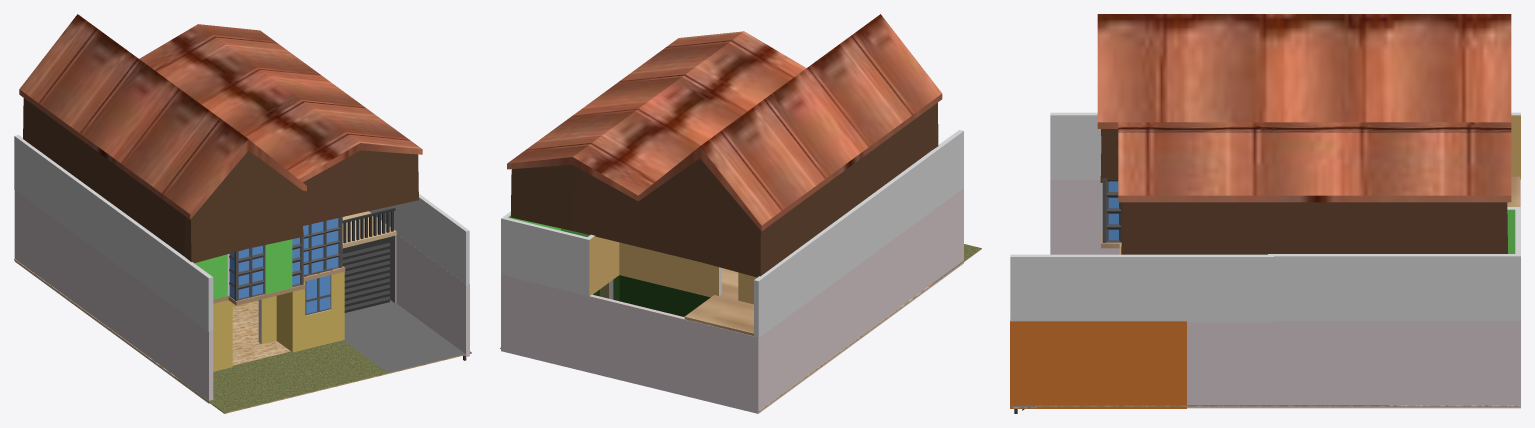
File: rumah kiri .fbx
3 views of the same model, side by side, from view 1: azimuth 30°, elevation 25°; view 2: azimuth 150°, elevation 25°; view 3: azimuth 270°, elevation 25° (orthographic). The views are drawn at different scales.
Visible parts, largest first — view 1: Cube.085, Cube.084, Cube.083, Plane.006, Plane.010, Cube.081, Cube.082, Plane.007, Cube.087, Cube.086; view 2: Cube.085, Cube.084, Cube.083, Plane.007, Plane.006; view 3: Cube.085, Cube.084, Cube.083, Cube.081, Plane.006, Plane.007.
Boxes of the visible parts, bbox=[...] form: Cube.085: bbox=[19, 14, 422, 263]; Cube.084: bbox=[14, 190, 469, 403]; Cube.083: bbox=[14, 135, 469, 331]; Plane.006: bbox=[14, 259, 471, 413]; Plane.010: bbox=[342, 242, 390, 312]; Cube.081: bbox=[292, 217, 342, 287]; Cube.082: bbox=[229, 245, 264, 300]; Plane.007: bbox=[213, 211, 396, 305]; Cube.087: bbox=[342, 208, 466, 360]; Cube.086: bbox=[304, 268, 332, 315]; Cube.085: bbox=[507, 14, 942, 277]; Cube.084: bbox=[501, 188, 963, 413]; Cube.083: bbox=[501, 130, 963, 337]; Plane.007: bbox=[684, 268, 753, 335]; Plane.006: bbox=[500, 244, 981, 411]; Cube.085: bbox=[1097, 14, 1511, 254]; Cube.084: bbox=[1010, 179, 1520, 408]; Cube.083: bbox=[1010, 112, 1520, 322]; Cube.081: bbox=[1102, 178, 1121, 242]; Plane.006: bbox=[1011, 405, 1520, 408]; Plane.007: bbox=[1101, 176, 1520, 254].
Size of the model in its own units: 2099 by 1953 by 3099.
Materials: 27 (4 with a texture image).
